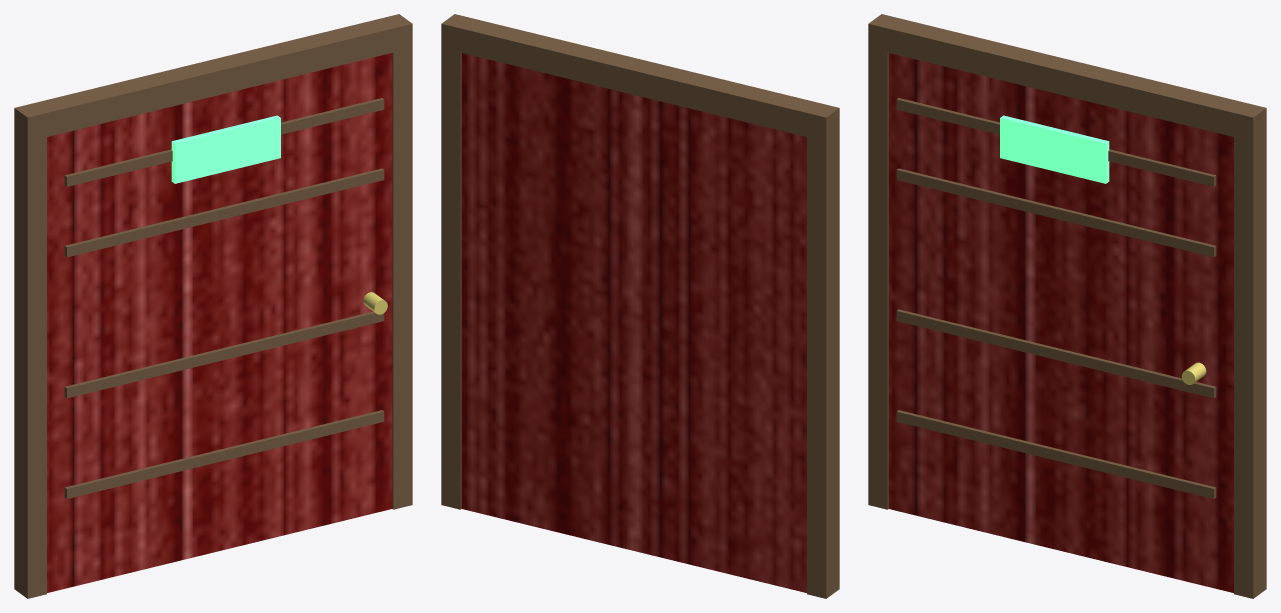
Rendered from exit_door.glb.
3 renders of one model, left to right at view 1: azimuth 30°, elevation 25°; view 2: azimuth 150°, elevation 25°; view 3: azimuth 330°, elevation 25°, orthographic.
Visible parts, largest first — view 1: door, frame.001, frame, frame.002, exit_sign, panel_strip.002, panel_strip, panel_strip.001, panel_strip.003; view 2: door, frame.001, frame, frame.002; view 3: door, frame.002, frame, frame.001, exit_sign, panel_strip.002, panel_strip, panel_strip.001, panel_strip.003.
Part boxes in pixels (x1,y1,x2,y2): door: (47, 53, 392, 592); frame.001: (14, 126, 46, 598); frame: (14, 14, 412, 141); frame.002: (392, 42, 412, 509); exit_sign: (171, 115, 280, 183); panel_strip.002: (64, 168, 384, 257); panel_strip: (64, 410, 384, 498); panel_strip.001: (64, 311, 384, 398); panel_strip.003: (64, 98, 384, 186); door: (461, 53, 806, 592); frame.001: (807, 126, 839, 598); frame: (441, 14, 839, 141); frame.002: (441, 42, 461, 509); door: (888, 53, 1233, 592); frame.002: (1234, 126, 1266, 598); frame: (868, 14, 1266, 141); frame.001: (868, 42, 888, 509); exit_sign: (1000, 115, 1109, 183); panel_strip.002: (896, 168, 1216, 257); panel_strip: (896, 410, 1216, 498); panel_strip.001: (896, 309, 1216, 398); panel_strip.003: (896, 98, 1216, 186).
Size of the model in its own units: 2 by 2.39 by 0.27.
Materials: 4 (1 with a texture image).
